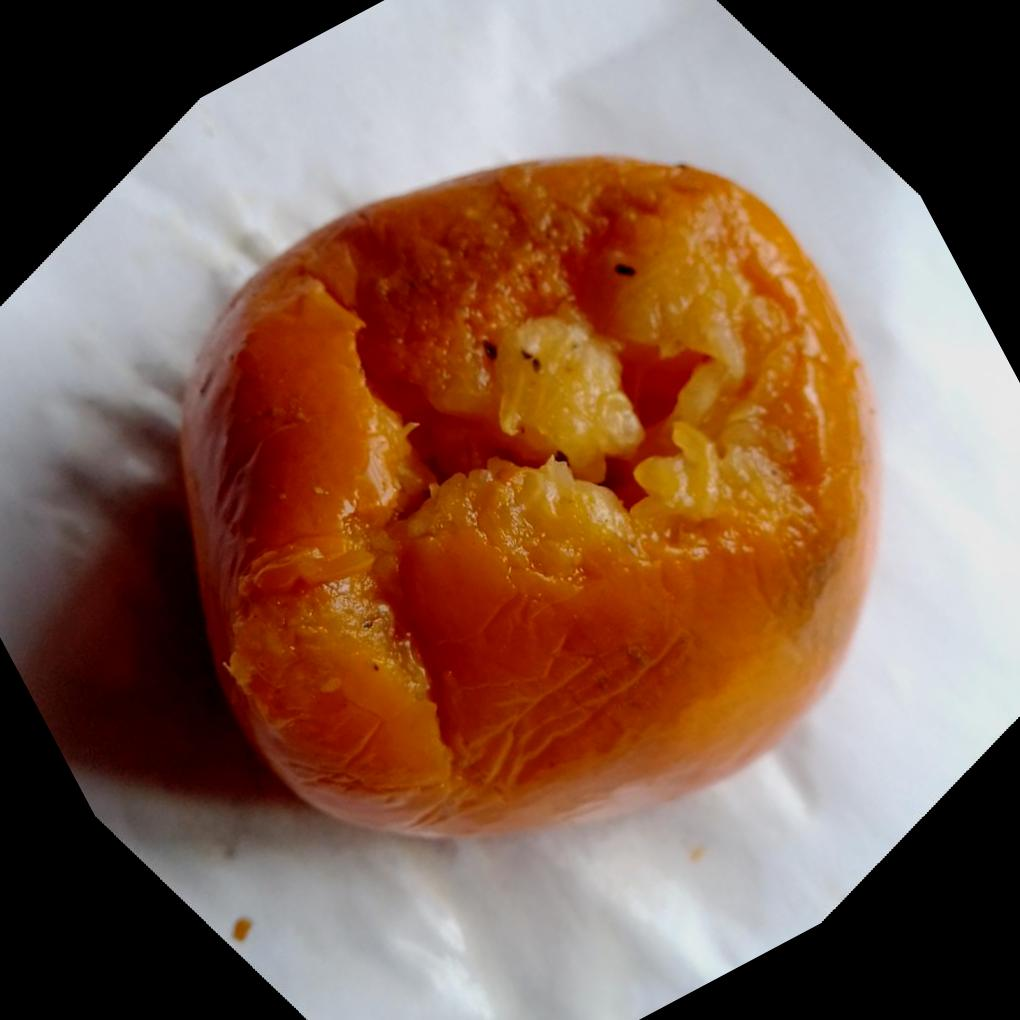FreshOrange: (178, 154, 878, 845)
